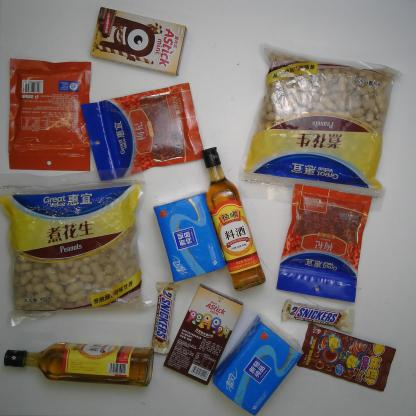Candy: (296, 324, 397, 392)
Chocolate: (280, 298, 355, 334), (146, 277, 180, 355)
Dessert: (162, 284, 242, 385), (91, 8, 188, 76)
Dried Food: (233, 44, 401, 213), (0, 166, 156, 330)
Dried Fruit: (80, 82, 206, 180), (276, 184, 372, 302), (8, 58, 91, 172)
Seasoner: (200, 146, 266, 292), (4, 341, 154, 387)
Tissue: (212, 314, 304, 415), (154, 189, 230, 283)
